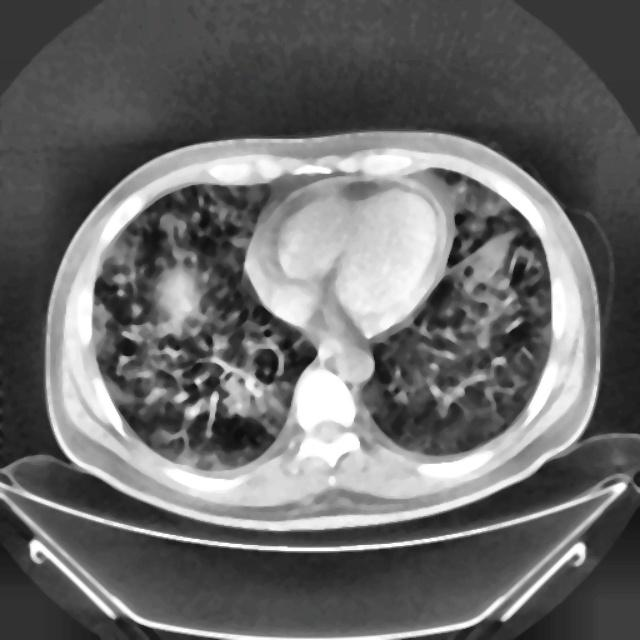covid: (44, 130, 601, 528)
